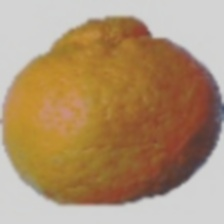tangerine: (52, 53, 209, 205)
